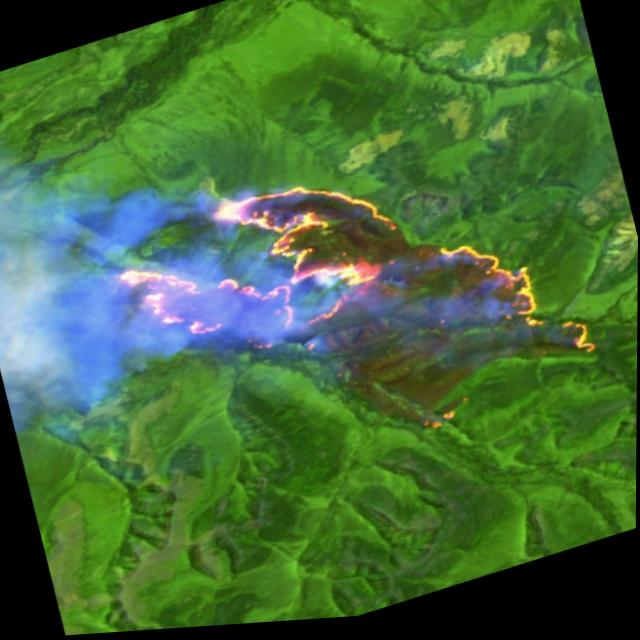fire: (102, 104, 610, 520)
